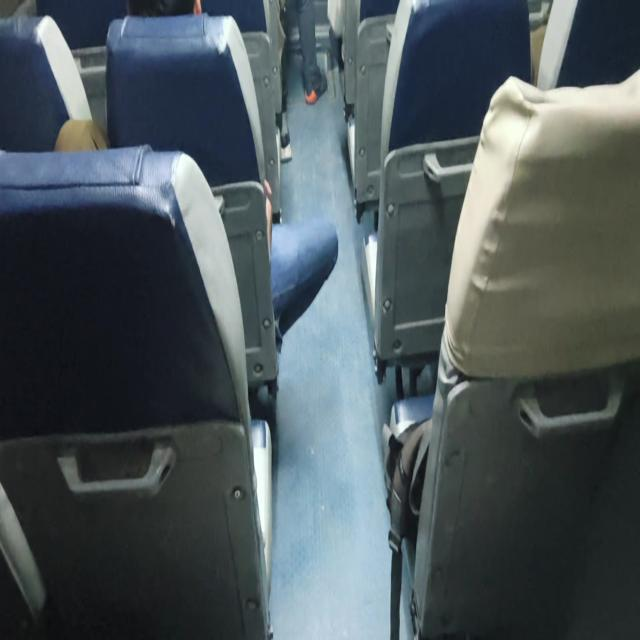person: (384, 64, 639, 638), (54, 115, 338, 348), (281, 0, 328, 105), (54, 117, 109, 152), (126, 0, 202, 18)
